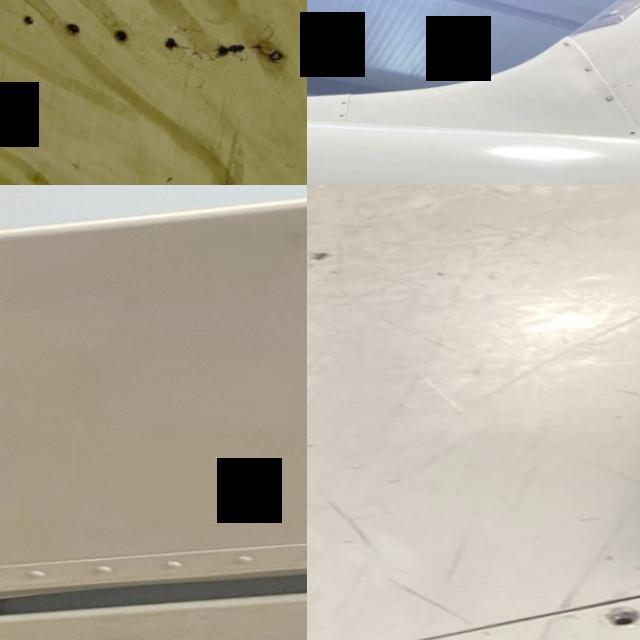Crack: (204, 24, 257, 70)
Missing_Fastener: (611, 595, 640, 632), (562, 37, 574, 44), (628, 125, 640, 130), (342, 100, 348, 103)
